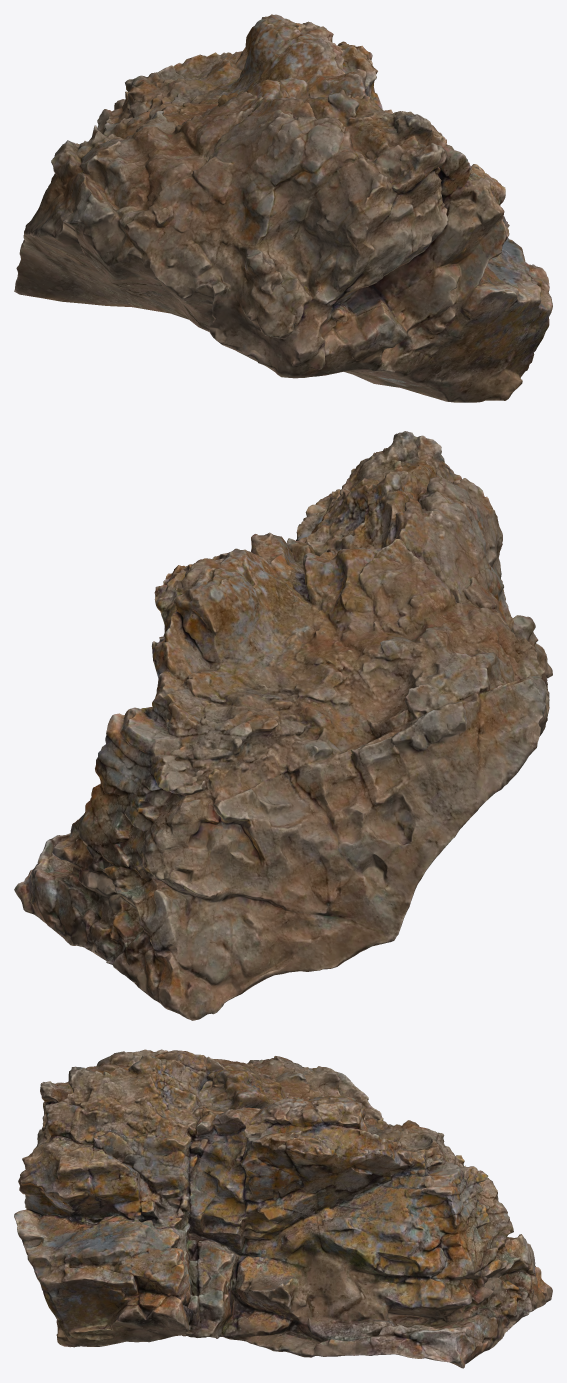
File: boulder_01-1k.glb
The picture shows the model from 3 angles, top to bottom: view 1: azimuth 30°, elevation 25°; view 2: azimuth 150°, elevation 25°; view 3: azimuth 270°, elevation 25°; orthographic projection. The views are drawn at different scales.
Parts seen in each view (by area): view 1: boulder_01; view 2: boulder_01; view 3: boulder_01.
Boxes of the visible parts, x1,y1,x2,y2 form: boulder_01: (14, 14, 552, 402); boulder_01: (14, 431, 552, 1020); boulder_01: (14, 1049, 552, 1368).
Size of the model in its own units: 1.27 by 1 by 1.83.
1 material, 1 textured.
